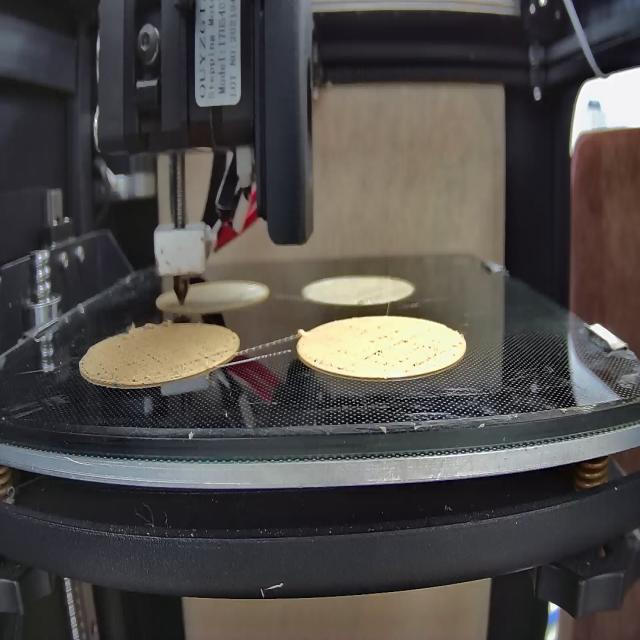under_extrusion: (365, 329, 444, 370), (98, 347, 169, 383), (180, 350, 230, 374), (312, 352, 345, 378)
